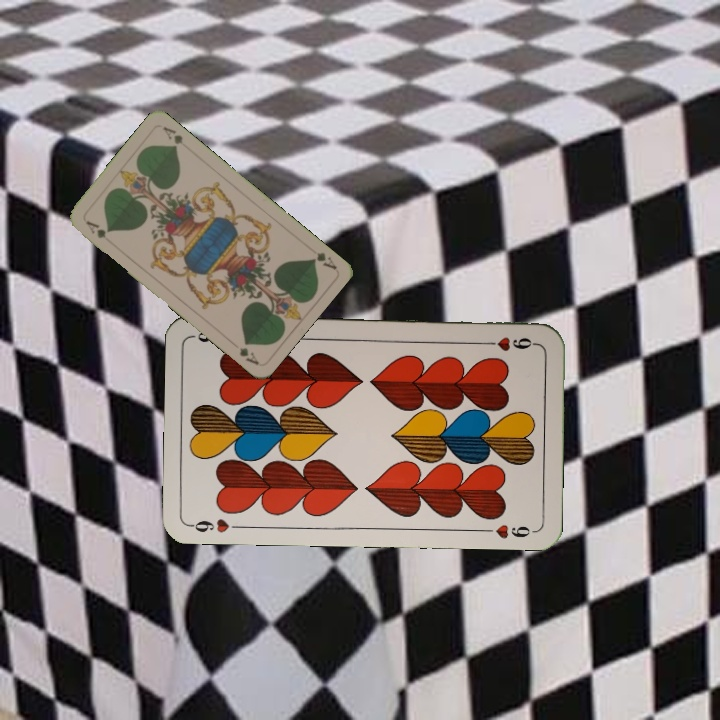GA: (81, 216, 112, 241), (308, 248, 339, 272)
H9: (480, 333, 539, 354), (187, 515, 246, 536)
